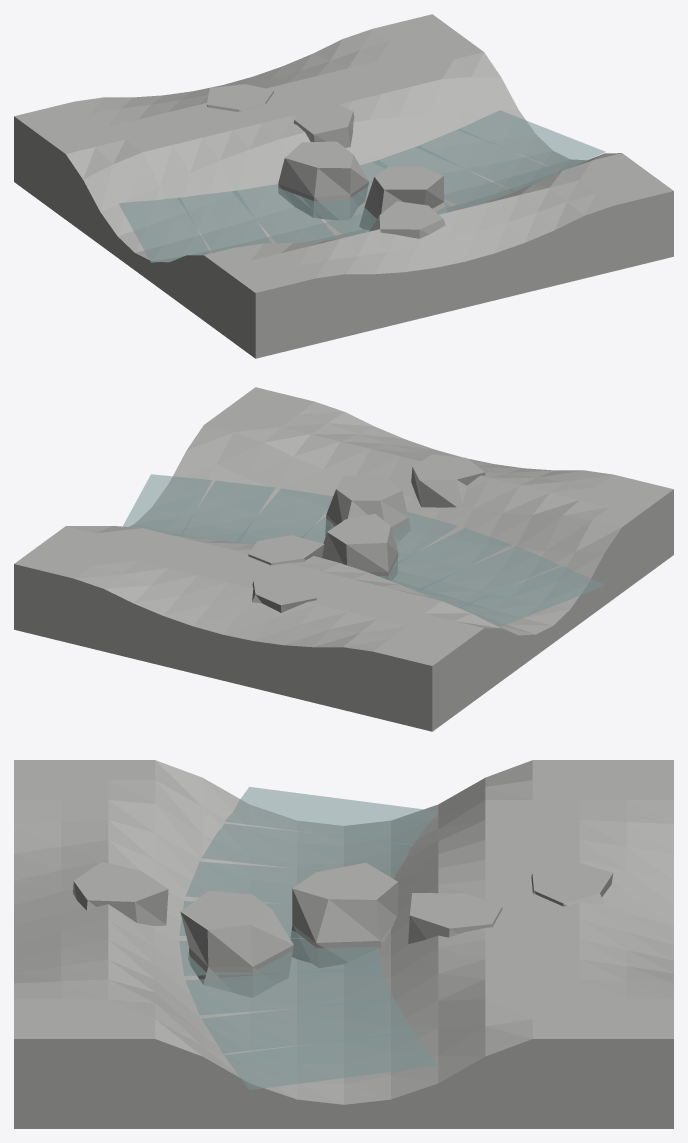
File: dense-temperate-forest-flora-stepping-stones-6c131234__28433.glb
The picture shows the model from 3 angles, top to bottom: view 1: azimuth 30°, elevation 25°; view 2: azimuth 150°, elevation 25°; view 3: azimuth 270°, elevation 25°; orthographic projection. The views are drawn at different scales.
Parts seen in each view (by area): view 1: stepping-stones; view 2: stepping-stones; view 3: stepping-stones.
Part boxes in pixels (box(x1,y1,x2,y2)): stepping-stones: box(14, 14, 673, 358); stepping-stones: box(14, 387, 673, 731); stepping-stones: box(14, 760, 673, 1128).
Size of the model in its own units: 2.18 by 0.31 by 2.
